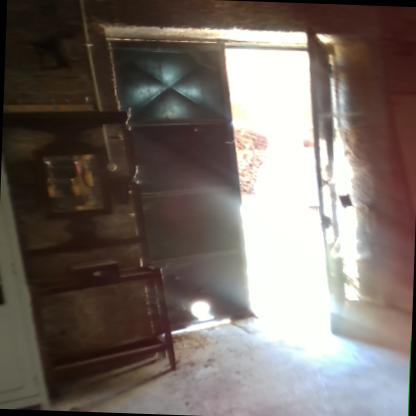semi: (101, 9, 359, 358)
